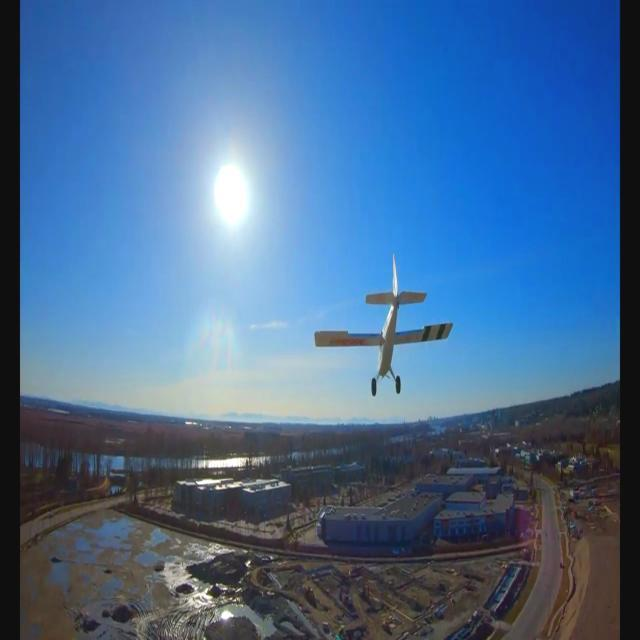iha: (307, 255, 462, 397)
